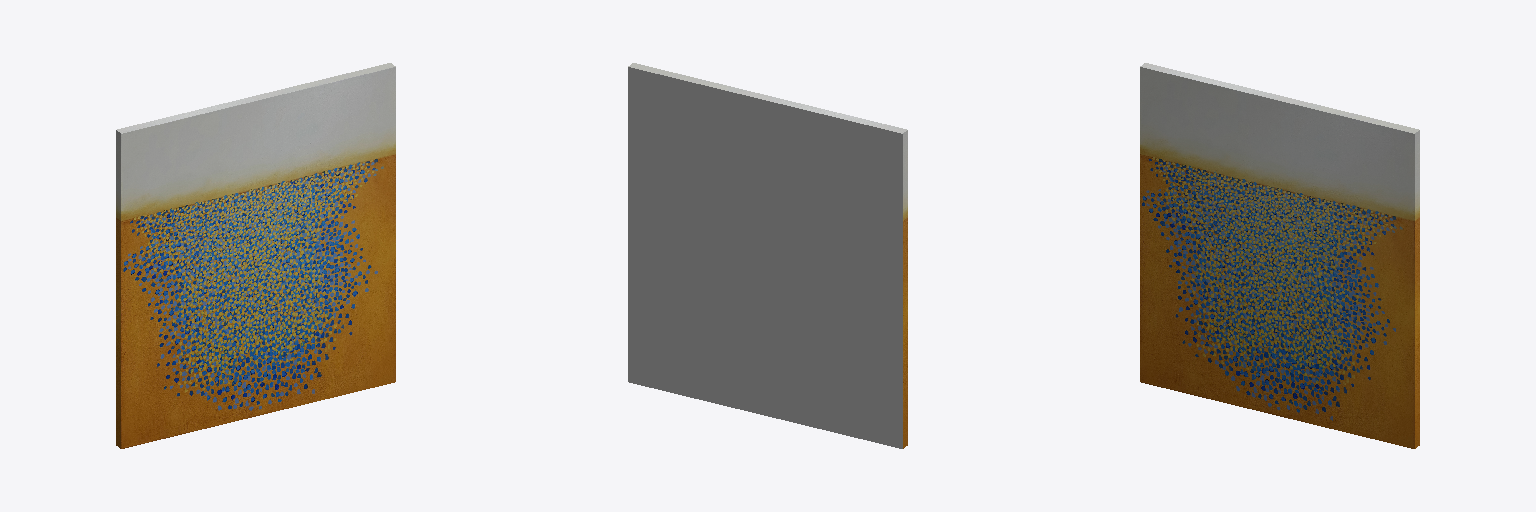
The picture shows the model from 3 angles: view 1: azimuth 30°, elevation 25°; view 2: azimuth 150°, elevation 25°; view 3: azimuth 330°, elevation 25°; orthographic projection.
Visible parts, largest first — view 1: Mesh1 Group1 Model; view 2: Mesh1 Group1 Model; view 3: Mesh1 Group1 Model.
Part boxes in pixels (x1,y1,x2,y2): Mesh1 Group1 Model: (116, 63, 395, 448); Mesh1 Group1 Model: (628, 63, 907, 448); Mesh1 Group1 Model: (1140, 63, 1419, 448).
Bounding box in the file's own units: 1 × 1.1 × 0.035.
2 materials, 1 textured.